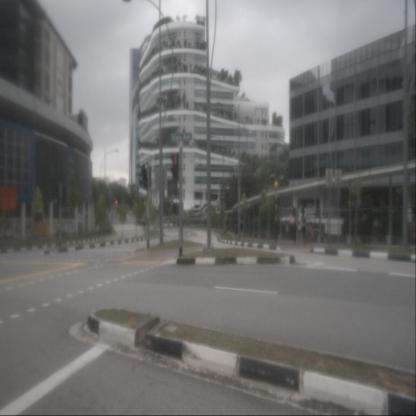human-pedestrian-adult: (300, 206, 307, 245), (289, 208, 296, 244), (240, 216, 244, 238)
